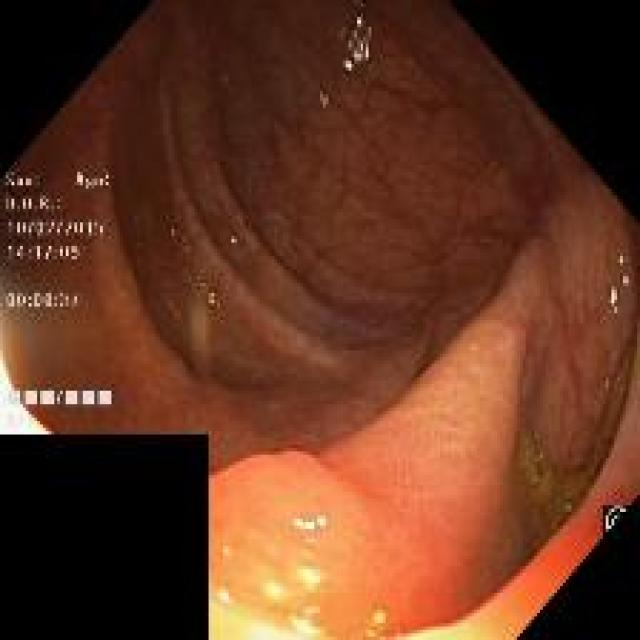Polyps: (212, 457, 376, 639)
